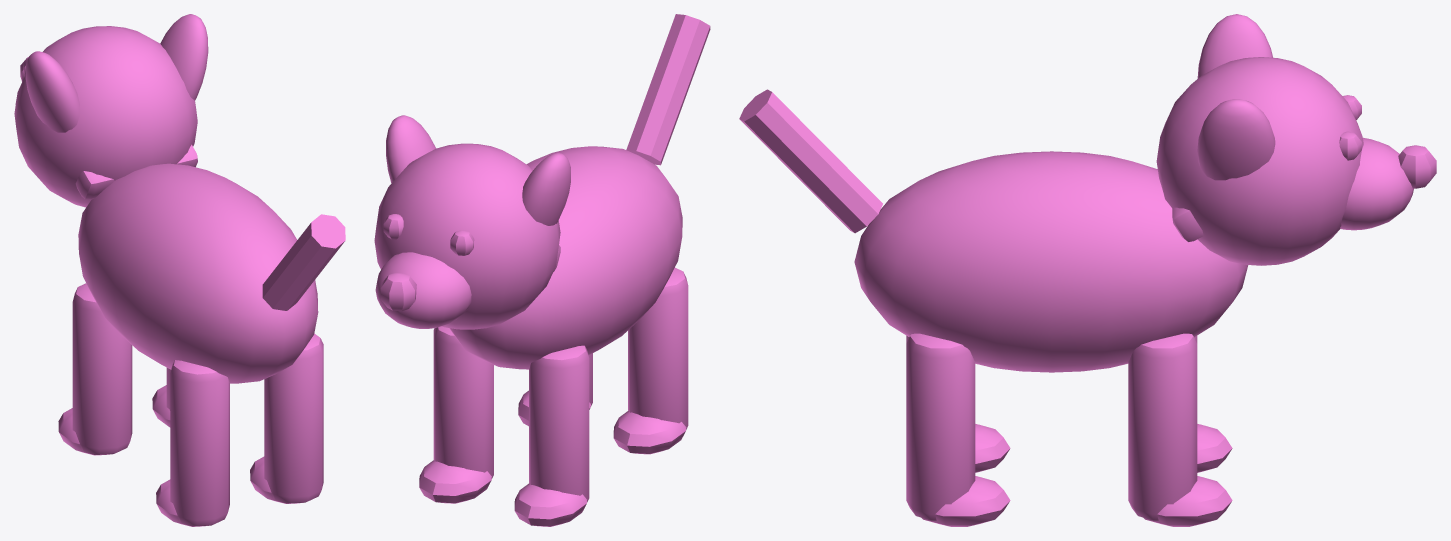
The model's file is Traffic_Dog.fbx.
The picture shows the model from 3 angles, left to right: view 1: azimuth 30°, elevation 25°; view 2: azimuth 150°, elevation 25°; view 3: azimuth 270°, elevation 25°; orthographic projection. The views are drawn at different scales.
Parts seen in each view (by area): view 1: Dog; view 2: Dog; view 3: Dog.
Boxes of the visible parts, x1,y1,x2,y2 form: Dog: [14, 14, 345, 526]; Dog: [374, 14, 710, 526]; Dog: [739, 14, 1436, 526].
Size of the model in its own units: 1.84 by 3.92 by 5.65.
Materials: 1 (1 with a texture image).
